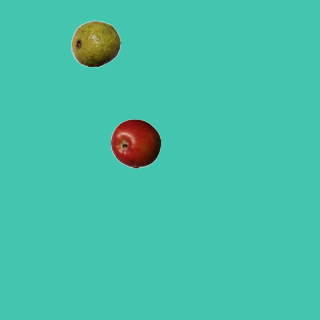Apple Braeburn: (110, 118, 160, 168)
Guava: (70, 18, 120, 68)
